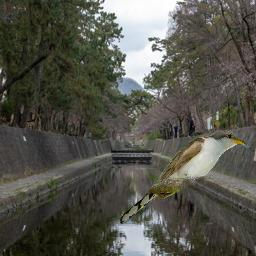Cuckoo: (117, 129, 250, 225)
